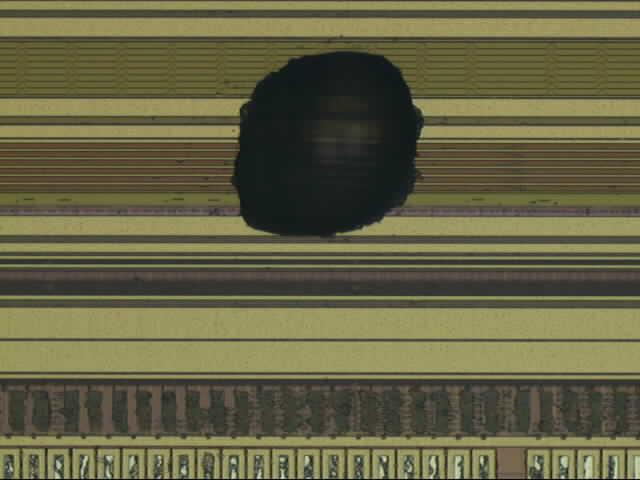PO CONTAMINATION: (226, 45, 429, 246)
